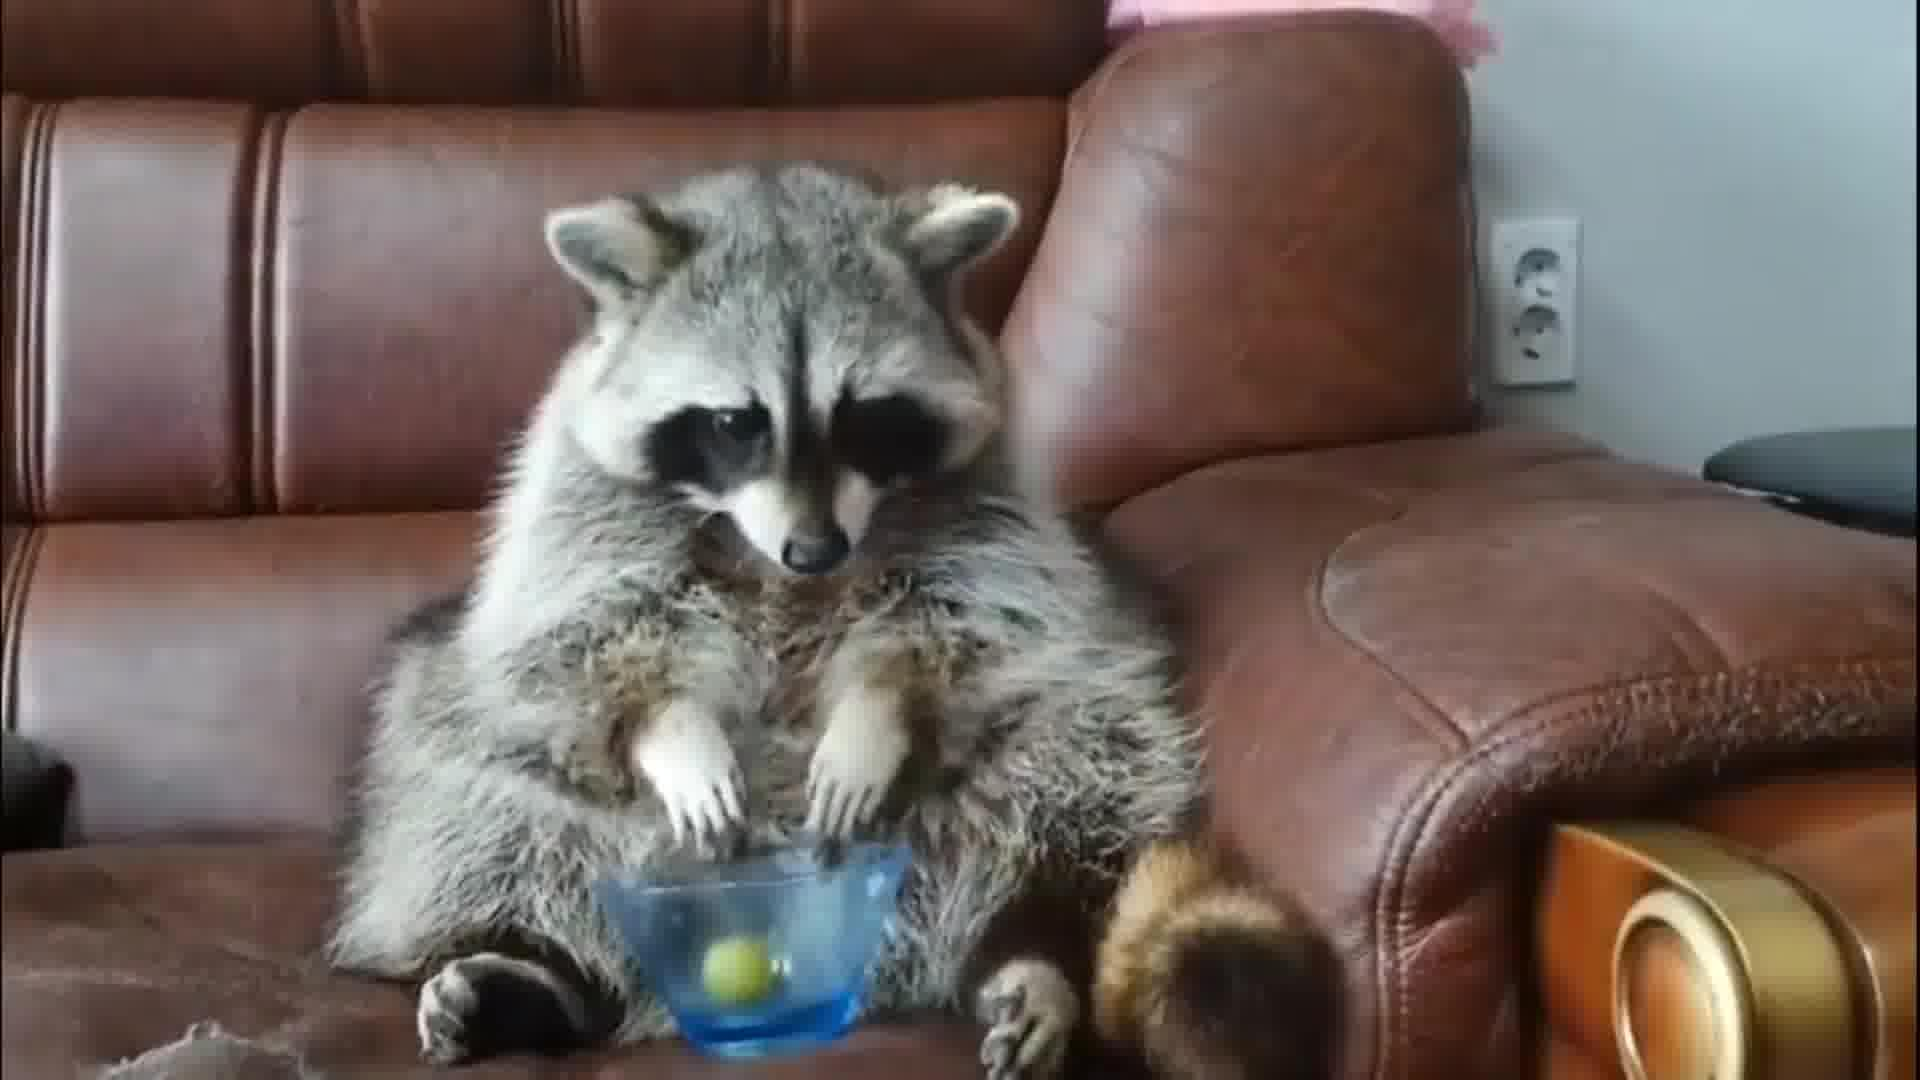raccoon: (344, 167, 1343, 1080)
